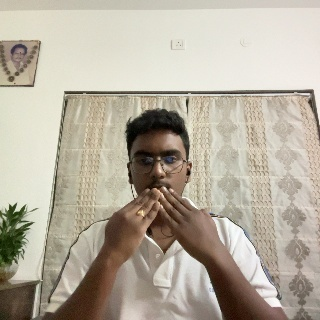Thank You: (99, 187, 227, 263)
